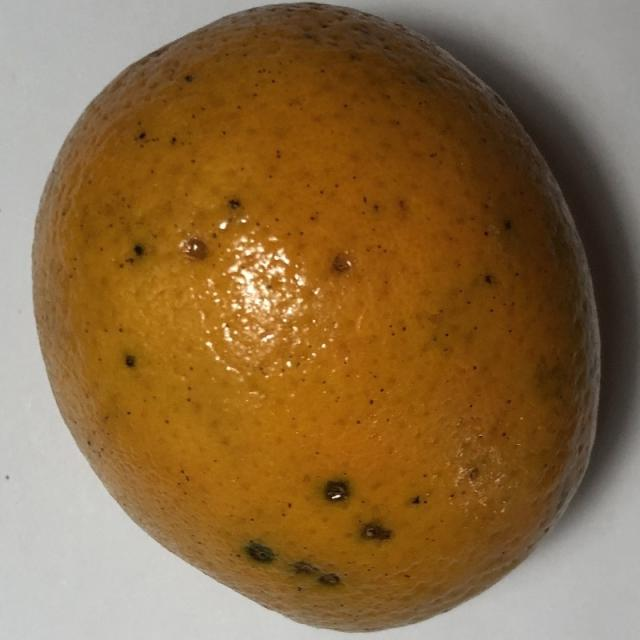black spot: (27, 3, 615, 633)
